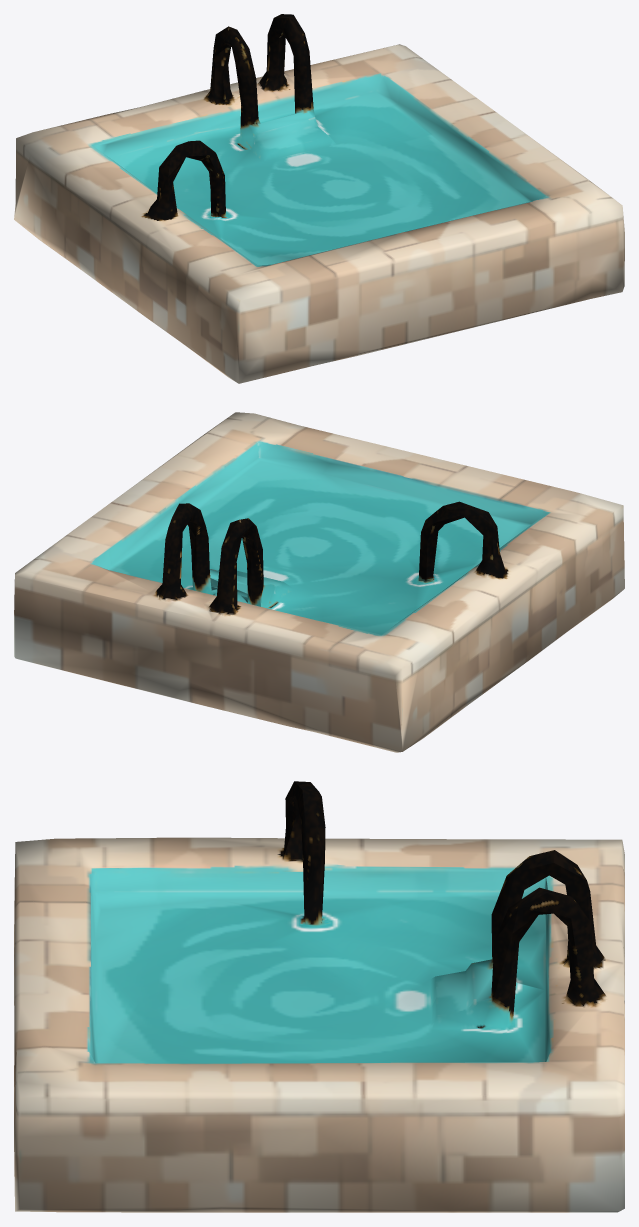
File: tinytown-pool.glb
3 views of the same model, one above another, from view 1: azimuth 30°, elevation 25°; view 2: azimuth 150°, elevation 25°; view 3: azimuth 270°, elevation 25° (orthographic). The views are drawn at different scales.
Visible parts, largest first — view 1: geometry_0.001; view 2: geometry_0.001; view 3: geometry_0.001.
Boxes of the visible parts, <box> form: geometry_0.001: <box>14,14,624,383</box>; geometry_0.001: <box>14,412,624,752</box>; geometry_0.001: <box>14,781,624,1212</box>.
Size of the model in its own units: 1 by 0.4247 by 0.9936.
Materials: 1 (1 with a texture image).
